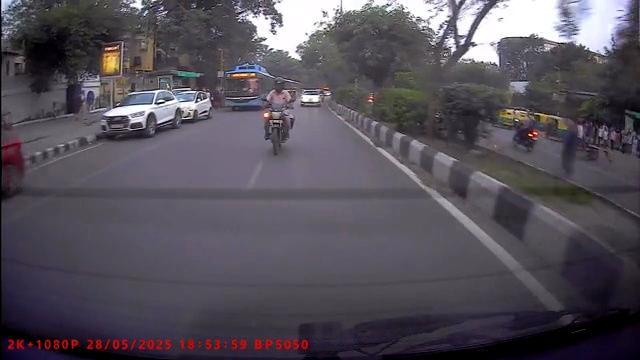motorcycle_with_helmet: (261, 77, 297, 158)
